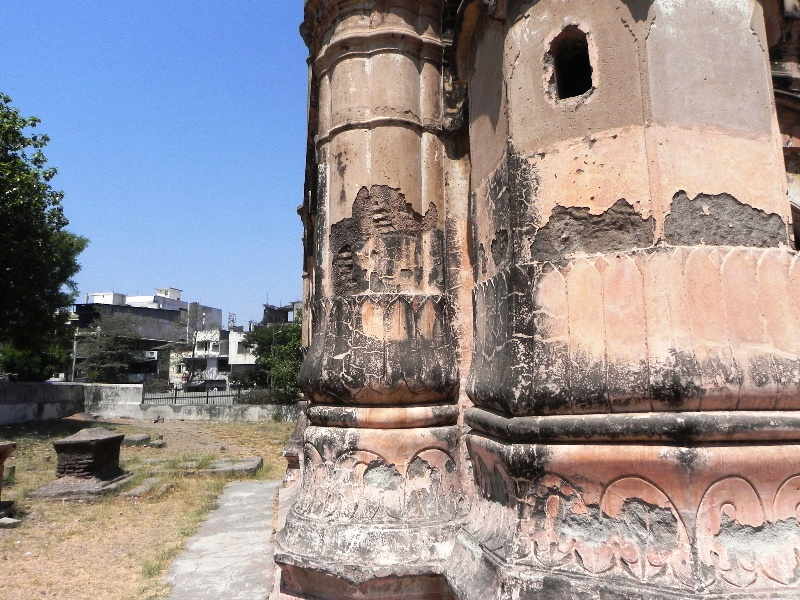Spalling: (530, 188, 798, 263), (328, 184, 432, 290)
